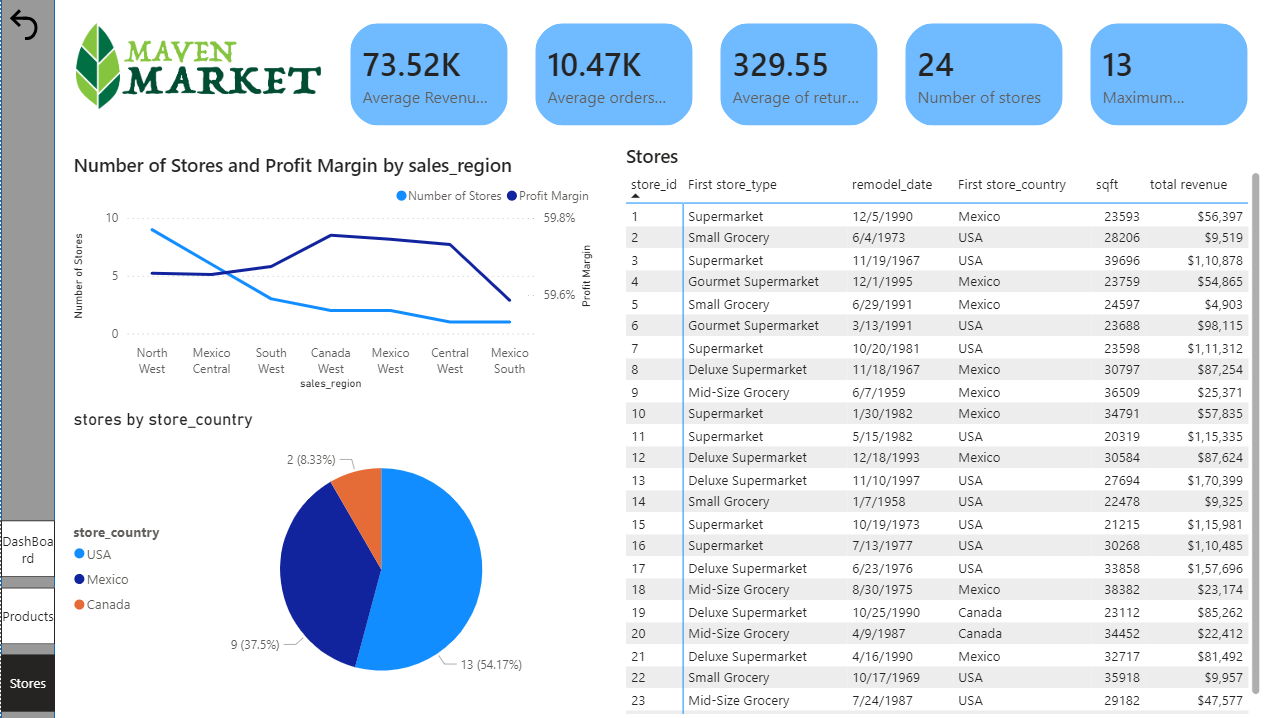

What the dashboard file says about the page in this screenshot:
{"tool":"powerbi","page":{"name":"Stores","canvas":[1280,720],"ordinal":2},"visuals":[{"type":"cardVisual","fields":{"Data":["Avg(Stores.Revenu per store)"]},"box":[333,8,191,136],"z":0,"group":"g1"},{"type":"pivotTable","title":"Stores ","fields":{"Rows":["Stores.store_id"],"Values":["Min(Stores.store_type)","Min(Stores.last_remodel_date)","Min(Stores.store_country)","Sum(Stores.total_sqft)","Measure Table.total revenue"]},"box":[620,144,644,576],"z":0},{"type":"shape","box":[0,0,54,720],"z":1000},{"type":"cardVisual","fields":{"Data":["Avg(Stores.orders per store)"]},"box":[518,8,191,136],"z":1000,"group":"g1"},{"type":"cardVisual","fields":{"Data":["Avg(Stores.returns per store)"]},"box":[703,8,191,136],"z":2000,"group":"g1"},{"type":"image","box":[68,17,258,98],"z":2000},{"type":"cardVisual","fields":{"Data":["CountNonNull(Stores.store_id)"]},"box":[888,8,191,136],"z":3000,"group":"g1"},{"type":"pieChart","title":"stores by store_country","fields":{"Category":["Stores.store_country","Stores.store_state"],"Y":["CountNonNull(Stores.store_id)"]},"box":[68,410,523,302],"z":3000},{"type":"group","id":"g1","title":"Group 1","box":[333,8,931,136],"z":4000},{"type":"cardVisual","fields":{"Data":["Sum(Stores.store_id)"]},"box":[1073,8,191,136],"z":4000,"group":"g1"},{"type":"lineChart","fields":{"Category":["Regions.sales_region"],"Y":["CountNonNull(Stores.store_id)"],"Y2":["Measure Table.Profit Margin"]},"box":[68,153,530,243],"z":5000},{"type":"actionButton","box":[3,5,47,41],"z":6000},{"type":"pageNavigator","box":[0,521,54,191],"z":7000}]}

Visuals, with their boxes on the page's 1280x720 design canvas (x1, y1, x2, y2). These are canvas units, not pixel positions in the 1278x718 screenshot, which may show the page scaled, cropped or inside an application window:
cardVisual - Avg(Stores.Revenu per store): bbox=(333, 8, 524, 144)
"Stores " pivotTable: bbox=(620, 144, 1264, 720)
shape: bbox=(0, 0, 54, 720)
cardVisual - Avg(Stores.orders per store): bbox=(518, 8, 709, 144)
cardVisual - Avg(Stores.returns per store): bbox=(703, 8, 894, 144)
image: bbox=(68, 17, 326, 115)
cardVisual - CountNonNull(Stores.store_id): bbox=(888, 8, 1079, 144)
"stores by store_country" pieChart: bbox=(68, 410, 591, 712)
"Group 1" group: bbox=(333, 8, 1264, 144)
cardVisual - Sum(Stores.store_id): bbox=(1073, 8, 1264, 144)
lineChart - Regions.sales_region x CountNonNull(Stores.store_id): bbox=(68, 153, 598, 396)
actionButton: bbox=(3, 5, 50, 46)
pageNavigator: bbox=(0, 521, 54, 712)
